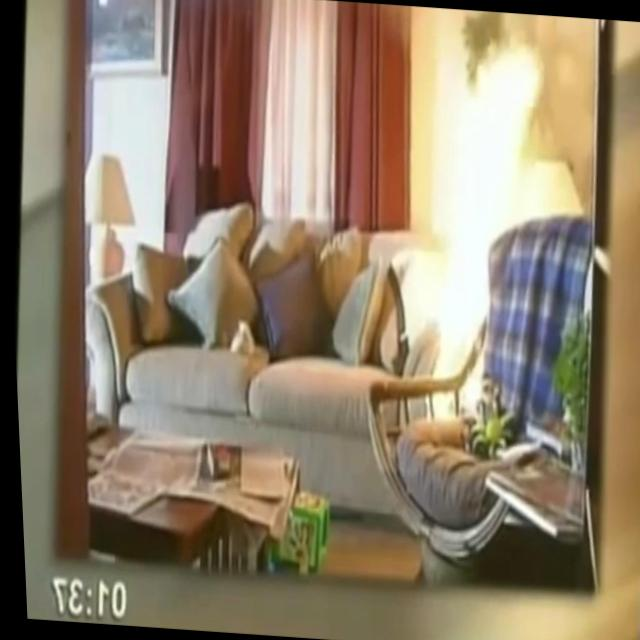fire: (409, 34, 559, 426)
